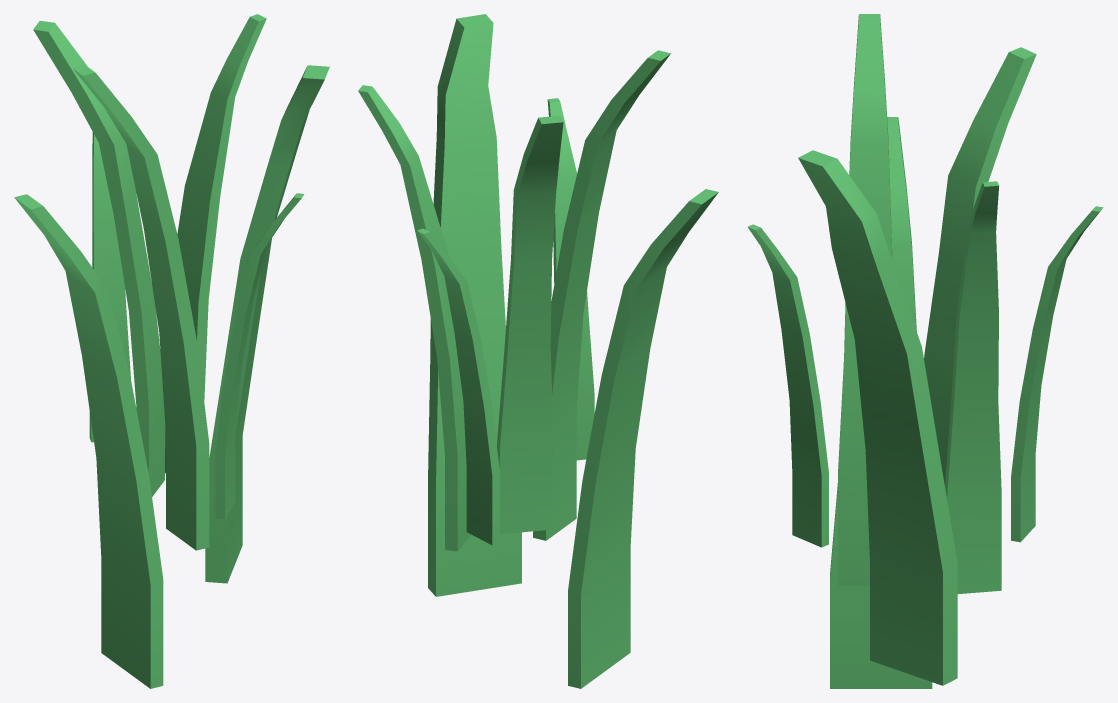
The model's file is Grass_1.fbx.
3 views of the same model, side by side, from view 1: azimuth 30°, elevation 25°; view 2: azimuth 150°, elevation 25°; view 3: azimuth 270°, elevation 25° (orthographic). The views are drawn at different scales.
Parts seen in each view (by area): view 1: pCube21; view 2: pCube21; view 3: pCube21.
Part boxes in pixels (bbox=[...]): pCube21: bbox=[14, 14, 329, 688]; pCube21: bbox=[358, 14, 718, 688]; pCube21: bbox=[747, 14, 1103, 688].
Size of the model in its own units: 207 by 415 by 209.
